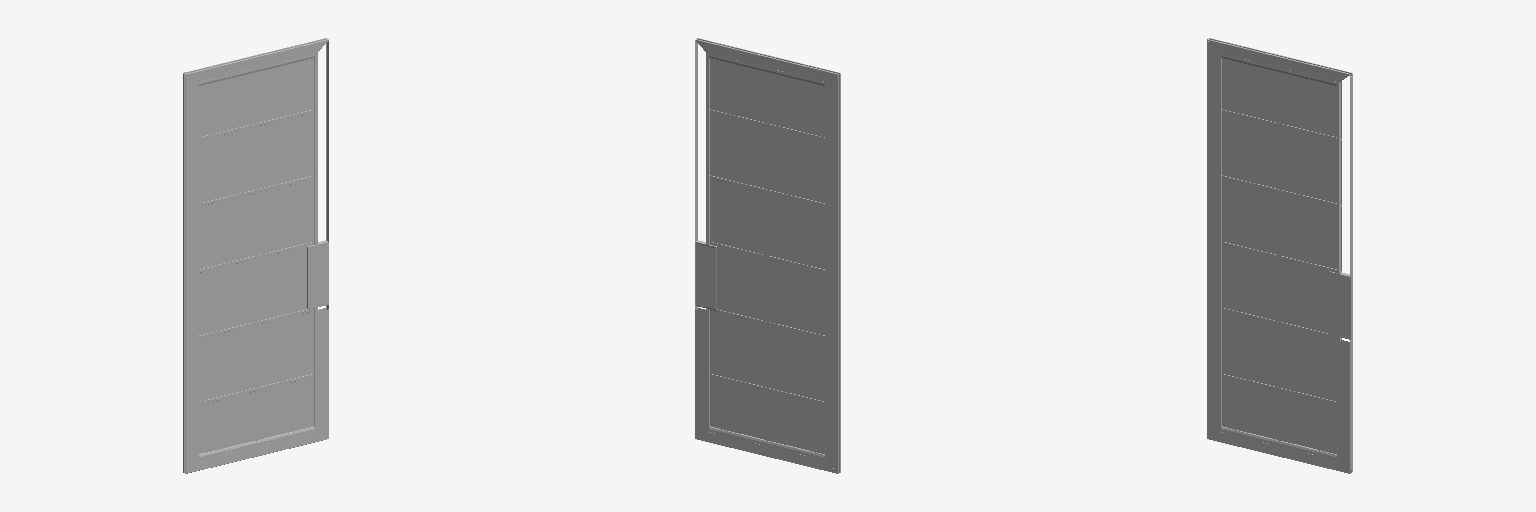
Rendered from Izquierda.obj.
The picture shows the model from 3 angles: view 1: azimuth 30°, elevation 25°; view 2: azimuth 150°, elevation 25°; view 3: azimuth 330°, elevation 25°; orthographic projection.
Parts seen in each view (by area): view 1: Fachada:polySurface68; view 2: Fachada:polySurface68; view 3: Fachada:polySurface68.
Boxes of the visible parts, x1=… form: Fachada:polySurface68: x1=183, y1=38, x2=328, y2=473; Fachada:polySurface68: x1=695, y1=38, x2=840, y2=473; Fachada:polySurface68: x1=1207, y1=38, x2=1352, y2=473.
Size of the model in its own units: 0.443 by 1.18 by 0.0129.